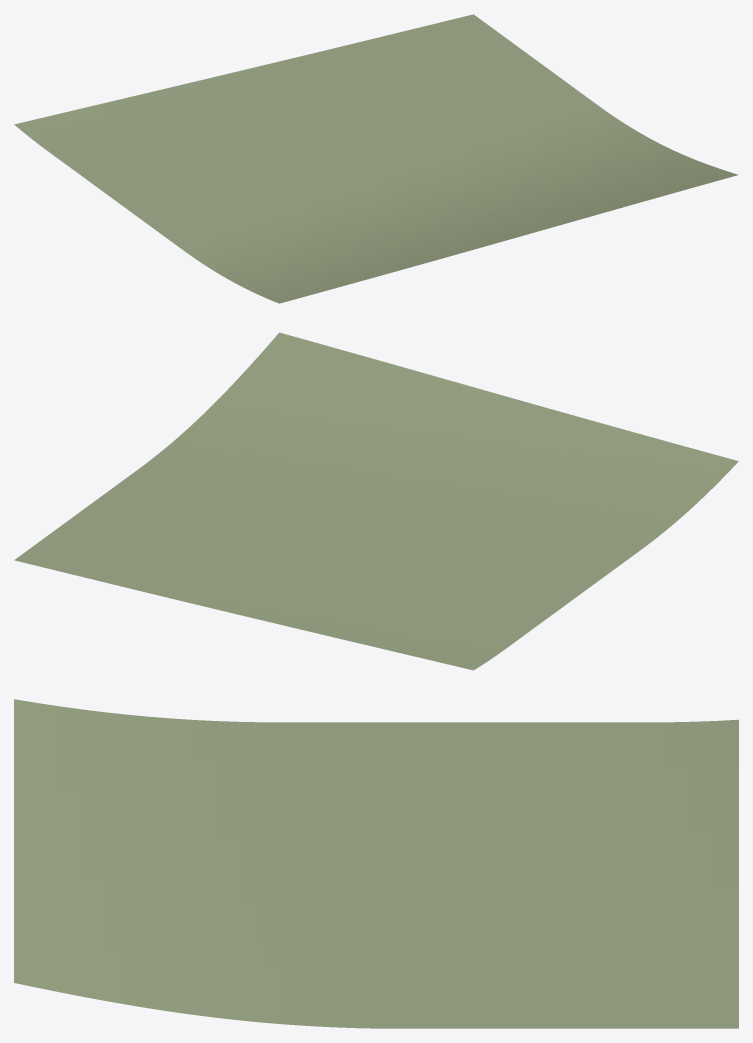
The model's file is valley-15-8.glb.
3 renders of one model, top to bottom at view 1: azimuth 30°, elevation 25°; view 2: azimuth 150°, elevation 25°; view 3: azimuth 270°, elevation 25°, orthographic. The views are drawn at different scales.
Parts seen in each view (by area): view 1: valley-15-8; view 2: valley-15-8; view 3: valley-15-8.
Boxes of the visible parts, <box> form: valley-15-8: <box>14,14,738,303</box>; valley-15-8: <box>14,332,738,670</box>; valley-15-8: <box>14,699,738,1028</box>.
Bounding box in the file's own units: 256 × 17.88 × 256.
